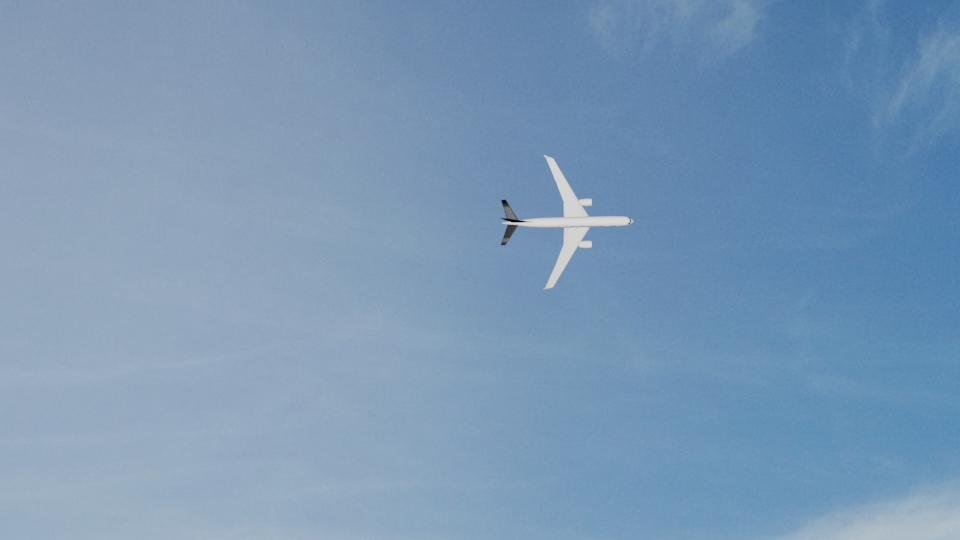plane: (495, 151, 638, 288)
